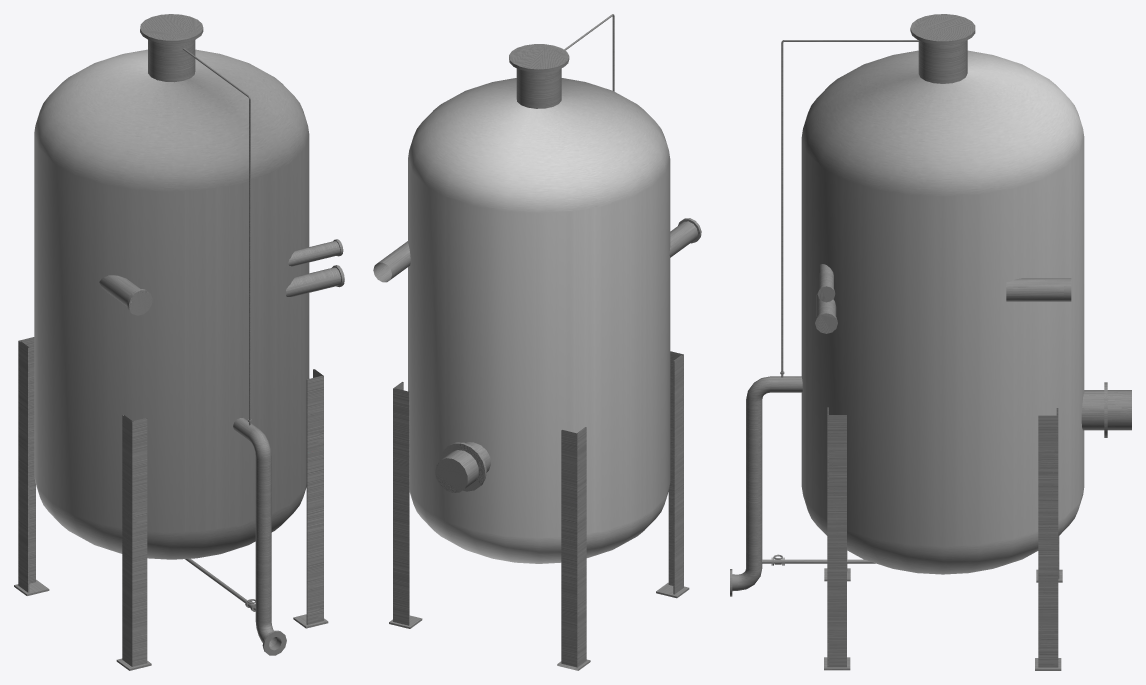
File: guanzishu2.fbx
The picture shows the model from 3 angles, left to right: view 1: azimuth 30°, elevation 25°; view 2: azimuth 150°, elevation 25°; view 3: azimuth 270°, elevation 25°; orthographic projection. The views are drawn at different scales.
Parts seen in each view (by area): view 1: 对象001, pipes; view 2: 对象001, pipes; view 3: 对象001, pipes.
Boxes of the visible parts, x1=… form: 对象001: x1=34, y1=49, x2=309, y2=559; pipes: x1=14, y1=14, x2=344, y2=670; 对象001: x1=408, y1=78, x2=670, y2=563; pipes: x1=373, y1=14, x2=701, y2=670; 对象001: x1=801, y1=50, x2=1084, y2=574; pipes: x1=730, y1=14, x2=1131, y2=670.
Bounding box in the file's own units: 30.91 × 71.65 × 43.95.
2 materials, 2 textured.
